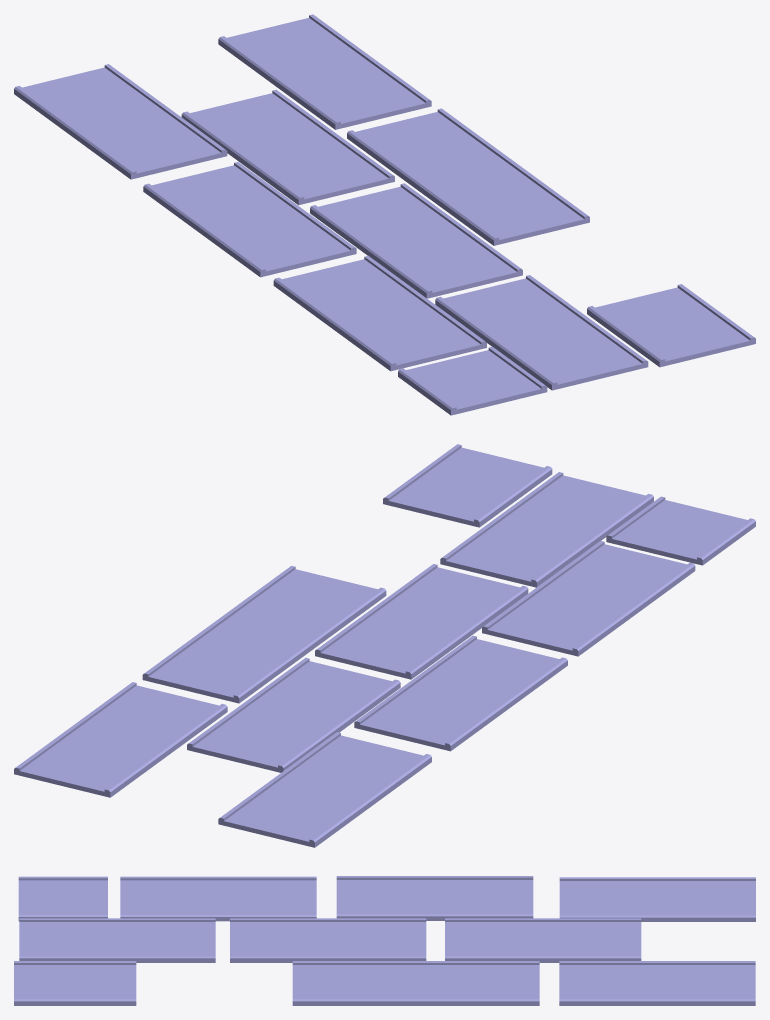
Rendered from floor_grp.fbx.
3 renders of one model, top to bottom at view 1: azimuth 30°, elevation 25°; view 2: azimuth 150°, elevation 25°; view 3: azimuth 270°, elevation 25°, orthographic. The views are drawn at different scales.
Parts seen in each view (by area): view 1: floor_9_msh, floor_3_msh, floor_1_msh, floor_8_msh, floor_2_msh, floor_6_msh, floor_5_msh, floor_7_msh, floor_10_msh, floor_4_msh; view 2: floor_9_msh, floor_3_msh, floor_2_msh, floor_8_msh, floor_1_msh, floor_6_msh, floor_5_msh, floor_7_msh, floor_10_msh, floor_4_msh; view 3: floor_9_msh, floor_8_msh, floor_5_msh, floor_1_msh, floor_6_msh, floor_2_msh, floor_3_msh, floor_7_msh, floor_10_msh, floor_4_msh.
Part boxes in pixels (box(x1,y1,x2,y2)): floor_9_msh: box(347, 108, 589, 245); floor_3_msh: box(273, 255, 486, 371); floor_1_msh: box(14, 64, 227, 179); floor_8_msh: box(218, 14, 431, 129); floor_2_msh: box(143, 162, 356, 277); floor_6_msh: box(310, 183, 522, 298); floor_5_msh: box(435, 275, 648, 390); floor_7_msh: box(181, 89, 394, 205); floor_10_msh: box(587, 284, 755, 367); floor_4_msh: box(398, 346, 547, 415); floor_9_msh: box(142, 566, 386, 703); floor_3_msh: box(482, 541, 695, 656); floor_2_msh: box(354, 635, 567, 751); floor_8_msh: box(14, 682, 227, 797); floor_1_msh: box(218, 732, 431, 847); floor_6_msh: box(315, 564, 528, 679); floor_5_msh: box(440, 472, 653, 587); floor_7_msh: box(187, 658, 400, 772); floor_10_msh: box(383, 444, 552, 527); floor_4_msh: box(606, 496, 755, 565); floor_9_msh: box(292, 961, 539, 1005); floor_8_msh: box(559, 961, 755, 1005); floor_5_msh: box(19, 918, 215, 962); floor_1_msh: box(559, 877, 755, 921); floor_6_msh: box(230, 918, 426, 962); floor_2_msh: box(336, 876, 533, 920); floor_3_msh: box(120, 876, 316, 921); floor_7_msh: box(445, 918, 641, 962); floor_10_msh: box(14, 961, 136, 1005); floor_4_msh: box(18, 876, 107, 920).
Bounding box in the file's own units: 284 × 6.23 × 715.
